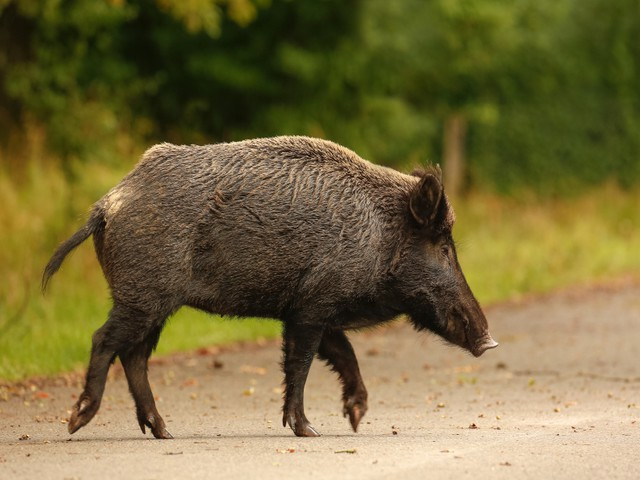Pig: (43, 129, 526, 435)
